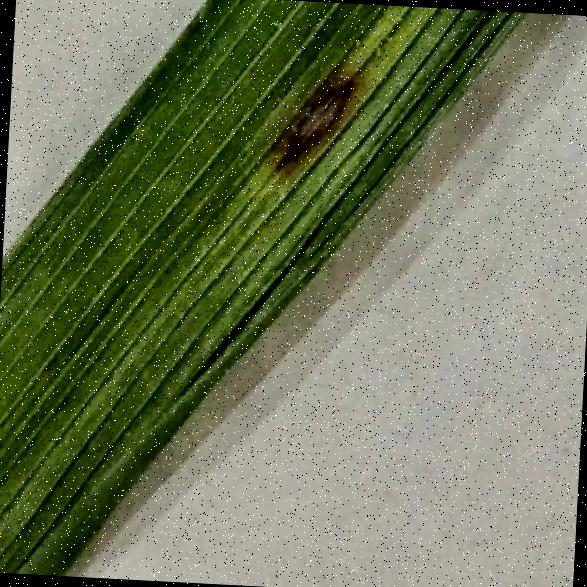Leaf_smut: (253, 62, 368, 185)
